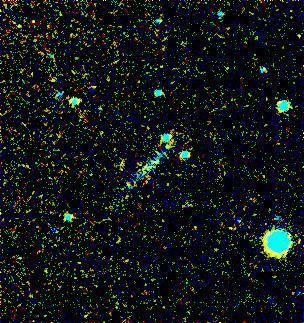star: (153, 131, 183, 161)
